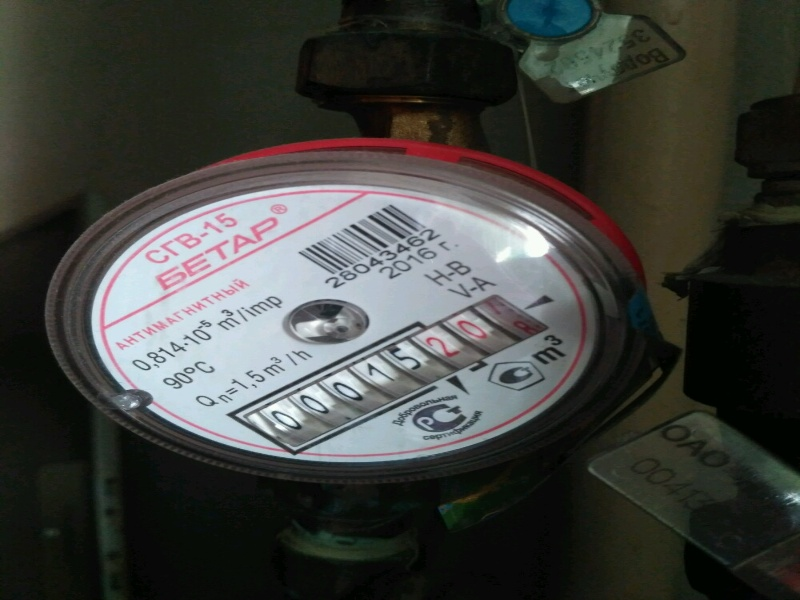meter: (251, 336, 542, 410)
